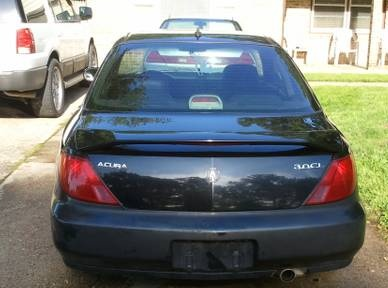acura: (49, 27, 368, 286)
